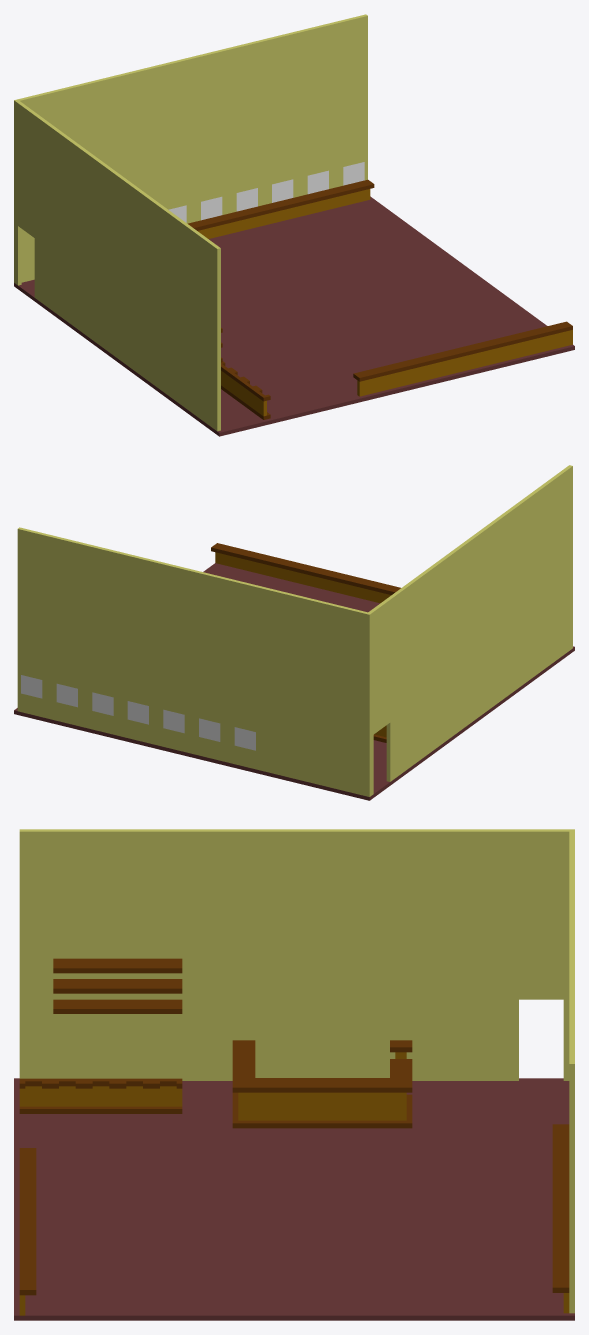
File: --7-Barber Shop.obj
3 views of the same model, one above another, from view 1: azimuth 30°, elevation 25°; view 2: azimuth 150°, elevation 25°; view 3: azimuth 270°, elevation 25° (orthographic). The views are drawn at different scales.
Visible parts, largest first — view 1: Barber Shop; view 2: Barber Shop; view 3: Barber Shop.
Boxes of the visible parts, x1,y1,x2,y2 form: Barber Shop: [14, 14, 574, 436]; Barber Shop: [14, 465, 574, 800]; Barber Shop: [14, 829, 574, 1320].
Size of the model in its own units: 10 by 5 by 10.
